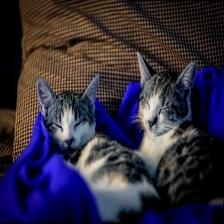kedo: (36, 76, 159, 223), (134, 52, 223, 206)
